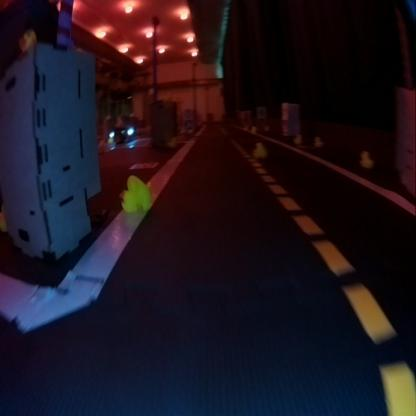Duckie: (120, 174, 150, 215), (251, 141, 266, 158), (359, 150, 373, 167)
QR code: (128, 161, 156, 168)
